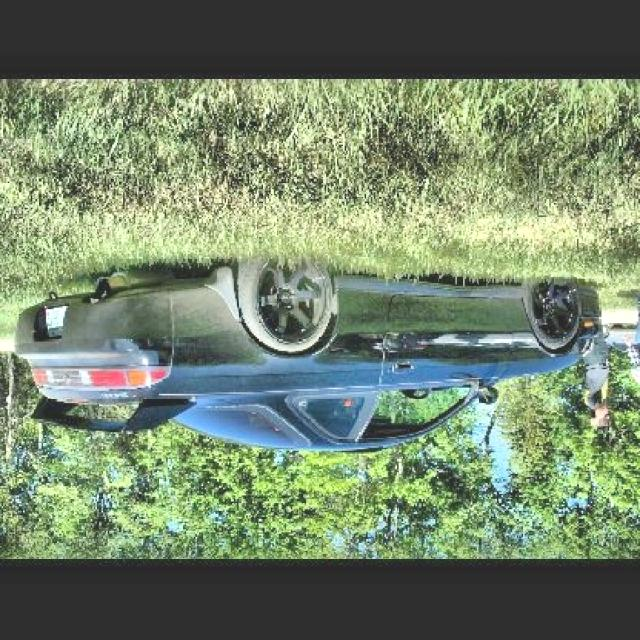black: (0, 286, 585, 466)
